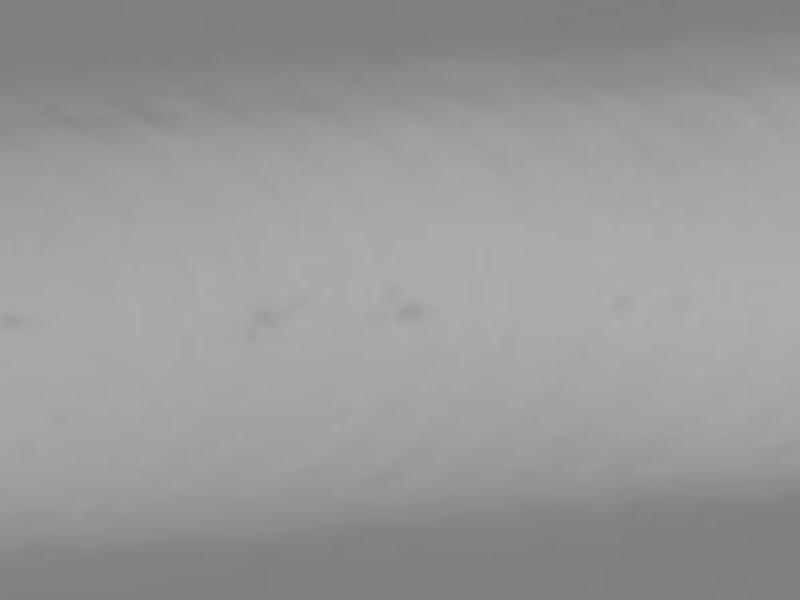defect: (391, 297, 422, 324), (249, 306, 275, 328), (1, 313, 25, 336), (609, 292, 630, 315), (239, 325, 256, 345), (282, 304, 301, 320)
